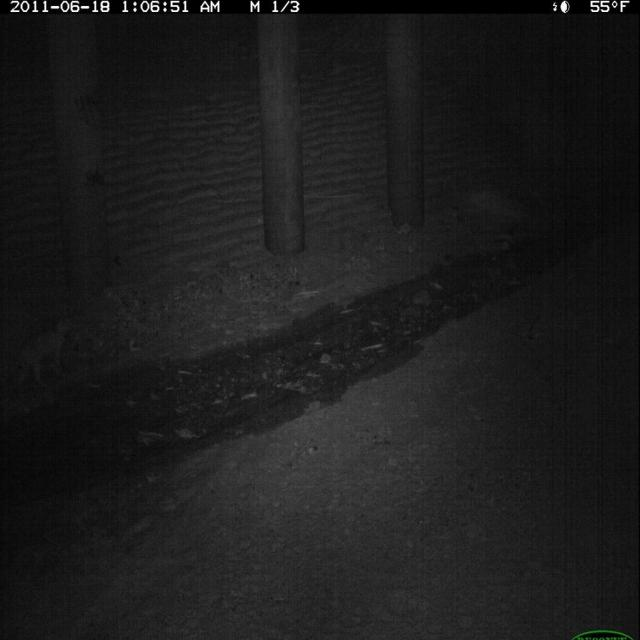bobcat: (12, 305, 75, 398)
